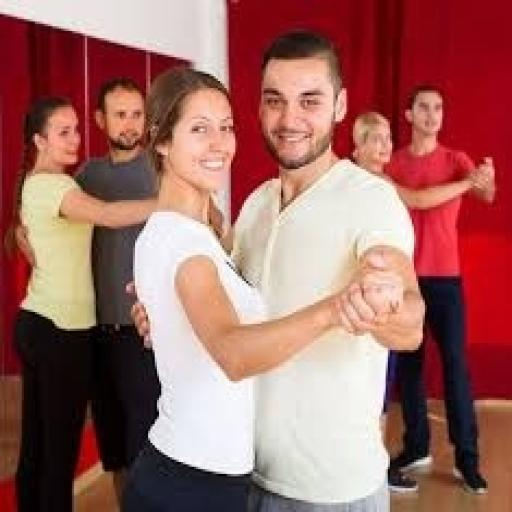dancing: (0, 45, 472, 512)
